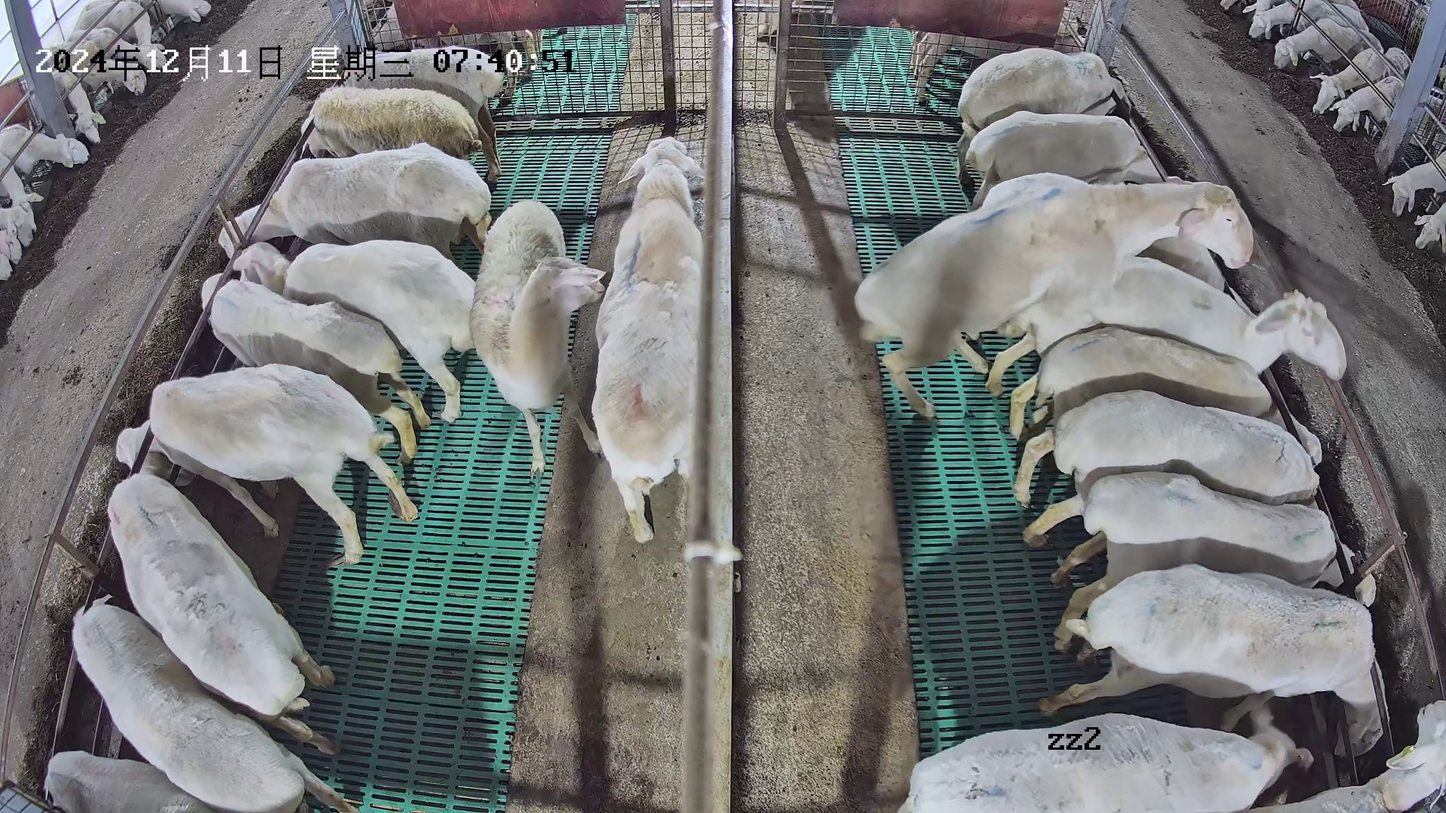Smounting: (850, 178, 1351, 445)
mounted: (986, 255, 1348, 442)
